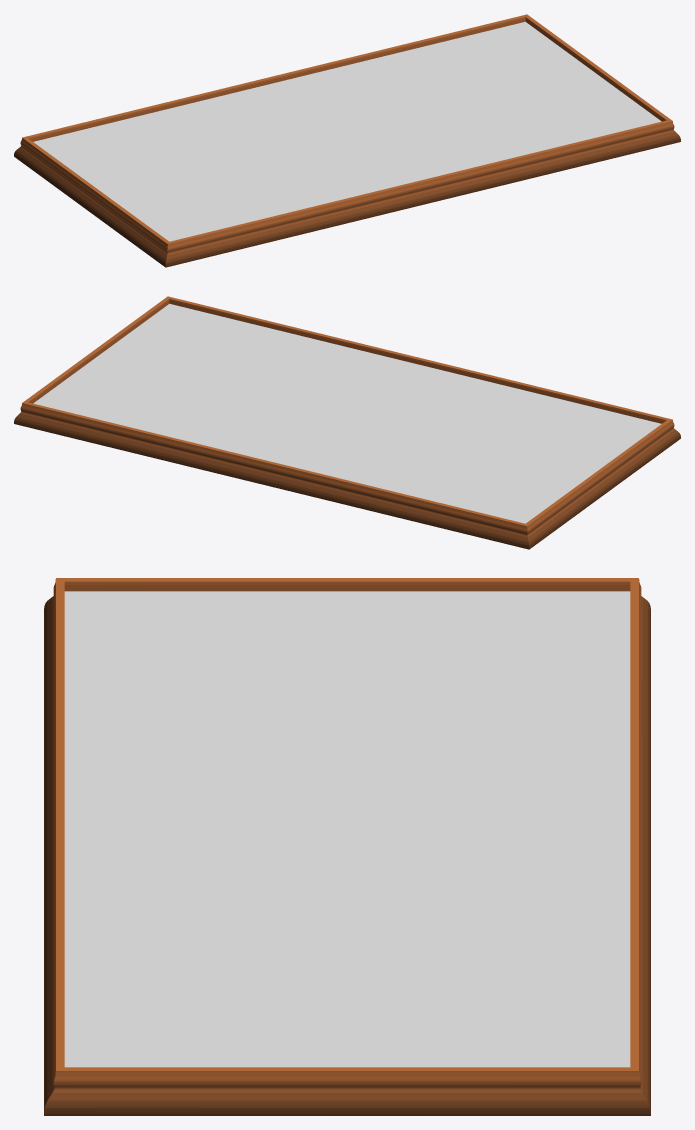
Rendered from middle-borders.fbx.
The picture shows the model from 3 angles, top to bottom: view 1: azimuth 30°, elevation 25°; view 2: azimuth 150°, elevation 25°; view 3: azimuth 270°, elevation 25°; orthographic projection. The views are drawn at different scales.
Parts seen in each view (by area): view 1: ModdleBorders; view 2: ModdleBorders; view 3: ModdleBorders.
Boxes of the visible parts, box(x1,y1,x2,y2) form: ModdleBorders: box(14, 14, 680, 267); ModdleBorders: box(14, 296, 680, 549); ModdleBorders: box(44, 578, 650, 1115).
Bounding box in the file's own units: 6121 × 227 × 3121.
